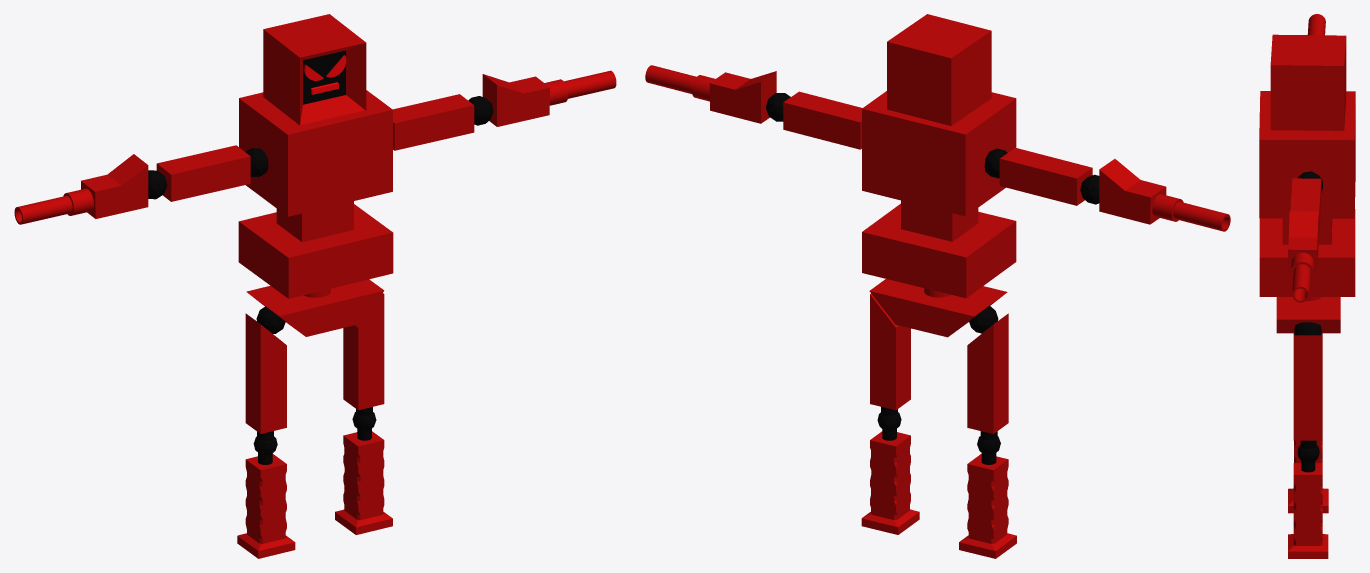
File: Boss2.fbx
The picture shows the model from 3 angles, left to right: view 1: azimuth 30°, elevation 25°; view 2: azimuth 150°, elevation 25°; view 3: azimuth 270°, elevation 25°; orthographic projection. The views are drawn at different scales.
Visible parts, largest first — view 1: Body, Head, RightLeg, LeftLeg, RightArm, LeftArm; view 2: Body, Head, RightLeg, LeftLeg, RightArm, LeftArm; view 3: Body, Head, LeftLeg, LeftArm, RightLeg, RightArm.
Boxes of the visible parts, bbox=[...] form: Body: bbox=[238, 90, 393, 336]; Head: bbox=[263, 14, 366, 125]; RightLeg: bbox=[237, 313, 295, 558]; LeftLeg: bbox=[335, 293, 392, 534]; RightArm: bbox=[14, 145, 250, 224]; LeftArm: bbox=[393, 70, 616, 150]; Body: bbox=[862, 91, 1016, 337]; Head: bbox=[887, 14, 991, 125]; RightLeg: bbox=[959, 313, 1016, 558]; LeftLeg: bbox=[861, 293, 919, 534]; RightArm: bbox=[999, 147, 1230, 231]; LeftArm: bbox=[645, 65, 862, 149]; Body: bbox=[1259, 91, 1355, 335]; Head: bbox=[1270, 34, 1346, 130]; LeftLeg: bbox=[1288, 335, 1328, 558]; LeftArm: bbox=[1288, 178, 1321, 302]; RightLeg: bbox=[1288, 333, 1328, 513]; RightArm: bbox=[1307, 14, 1325, 35].
Size of the model in its own units: 321 by 262 by 47.98.
